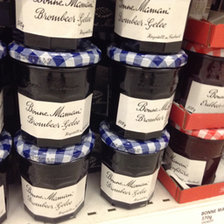jam: (8, 41, 102, 148), (105, 44, 189, 141), (14, 134, 97, 224), (98, 122, 171, 209), (165, 124, 224, 187)
